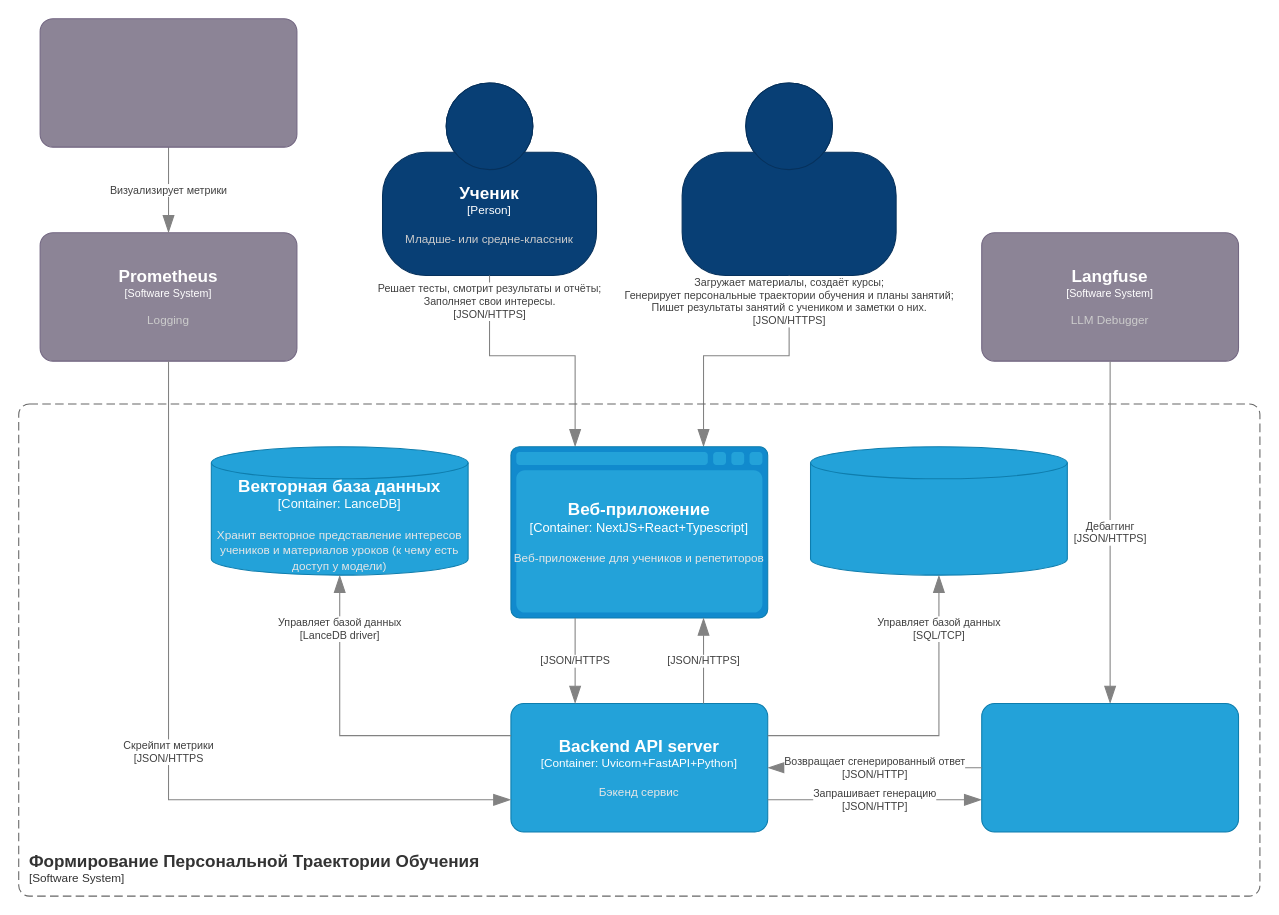
Some shapes in this 1279 by 915 pixel diagram are drawn without their labels. The centre of each missing label's shape, as x and y in pixels:
"Grafana [Software System] Log dashboards" belongs at point 168,82.
"Ollama [Container: Ollama] Inference platform" belongs at point 1110,767.
"База данных [Container: PostgreSQL] База данных" belongs at point 938,510.
"Репетитор [Person] Репетитор начальных или средних классов" belongs at point 788,179.
